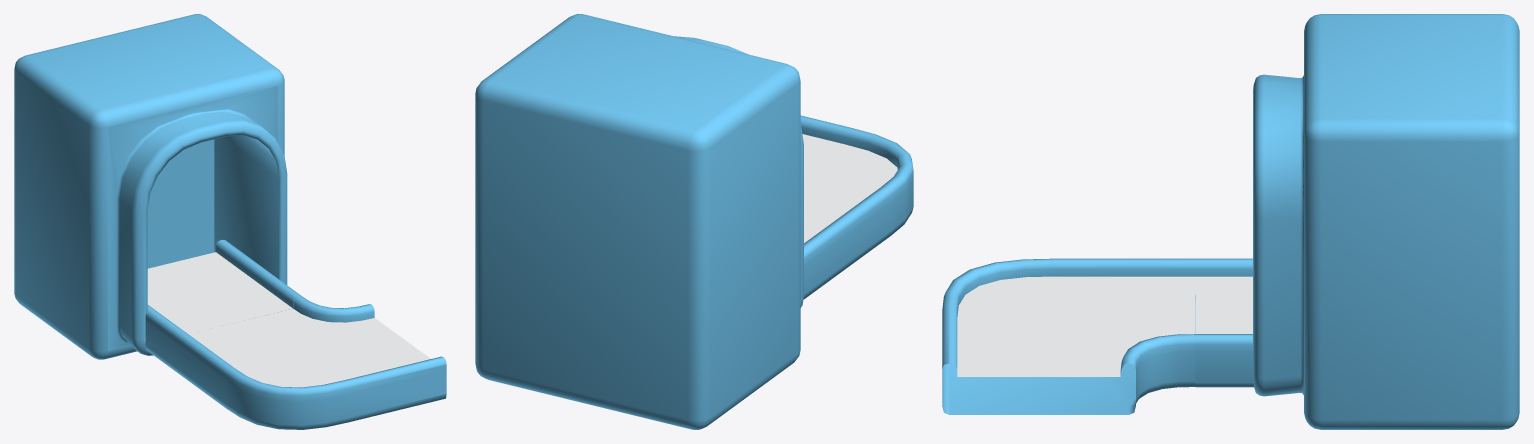
The model's file is ProductBelt-Blue.fbx.
3 views of the same model, side by side, from view 1: azimuth 30°, elevation 25°; view 2: azimuth 150°, elevation 25°; view 3: azimuth 270°, elevation 25° (orthographic). The views are drawn at different scales.
Visible parts, largest first — view 1: ProductBelt-Blue, L-path.003, I-path.003; view 2: ProductBelt-Blue, L-path.003, I-path.003; view 3: ProductBelt-Blue, L-path.003, I-path.003.
Part boxes in pixels (bbox=[...]): ProductBelt-Blue: bbox=[14, 14, 287, 359]; L-path.003: bbox=[169, 296, 446, 429]; I-path.003: bbox=[145, 240, 301, 366]; ProductBelt-Blue: bbox=[475, 14, 803, 429]; L-path.003: bbox=[800, 115, 913, 285]; I-path.003: bbox=[803, 236, 823, 299]; ProductBelt-Blue: bbox=[1253, 14, 1519, 429]; L-path.003: bbox=[942, 258, 1195, 414]; I-path.003: bbox=[1195, 258, 1254, 387].
Size of the model in its own units: 137 by 158 by 268.
